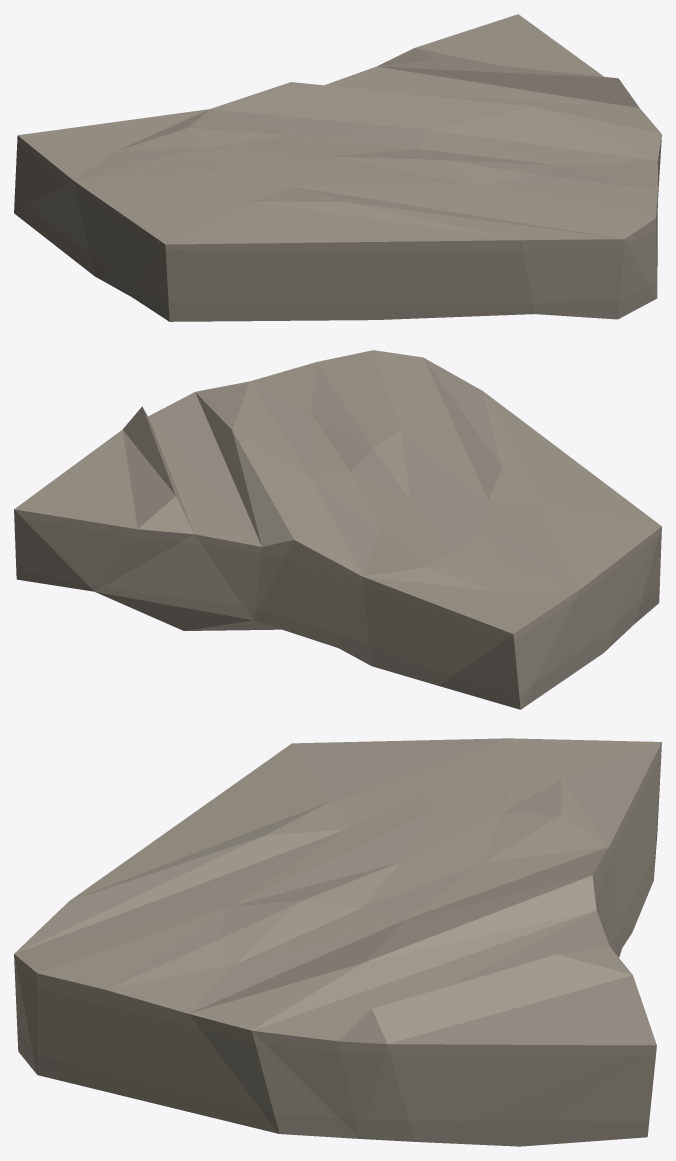
The model's file is YN_RockPlate4.fbx.
The picture shows the model from 3 angles, top to bottom: view 1: azimuth 30°, elevation 25°; view 2: azimuth 150°, elevation 25°; view 3: azimuth 270°, elevation 25°; orthographic projection. The views are drawn at different scales.
Visible parts, largest first — view 1: RockPlate4; view 2: RockPlate4; view 3: RockPlate4.
Boxes of the visible parts, x1,y1,x2,y2 form: RockPlate4: [14, 14, 661, 321]; RockPlate4: [14, 350, 661, 709]; RockPlate4: [14, 738, 661, 1146].
Bounding box in the file's own units: 1.13 × 0.2549 × 1.
